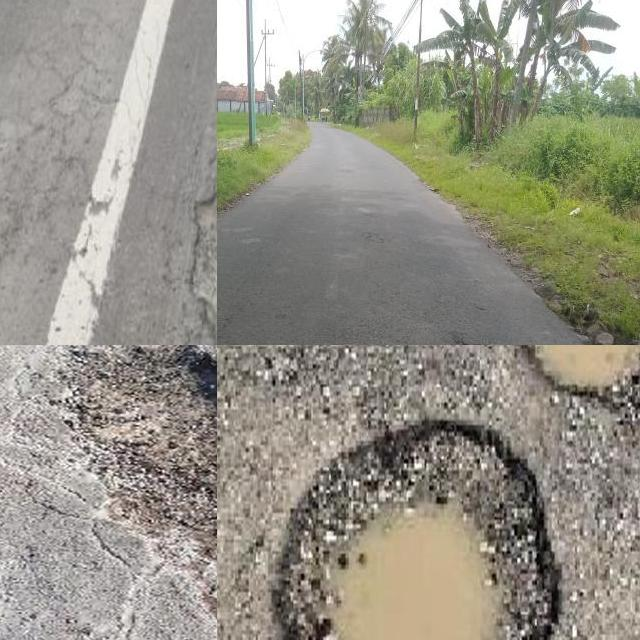Lubang: (284, 420, 557, 640), (59, 345, 217, 602), (514, 345, 640, 421)
